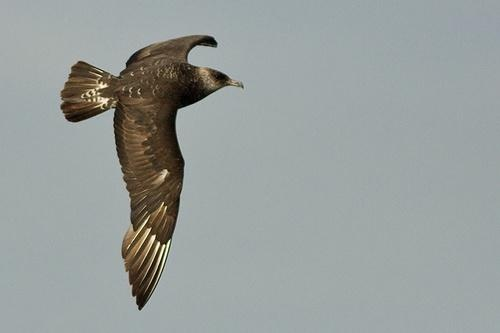bird: (56, 34, 246, 311)
